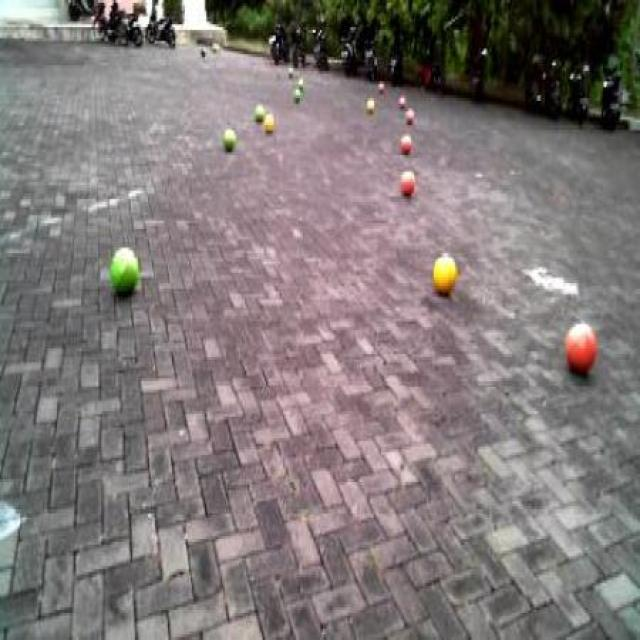buoy: (101, 237, 142, 305), (562, 311, 599, 377), (428, 240, 458, 296)
